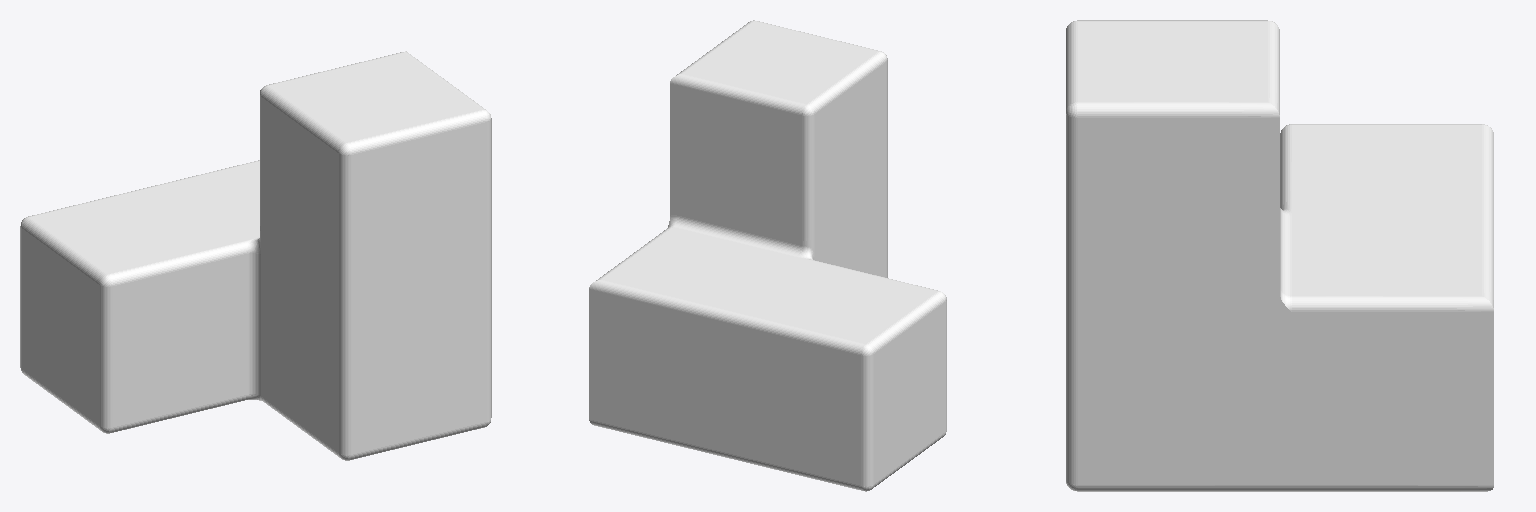
URDF robot description (cube6):
<robot name="cube6">
	<link name="baseLink">
    	<contact>
      		<lateral_friction value="0.5" />
      		<rolling_friction value="0.0" />
      		<contact_cfm value="0.0" />
      		<contact_erp value="1.0" />
    	</contact>
		<visual>
			<origin rpy="0.0 0.0 0.0" xyz="-0.8751012590545183 0.07997135283127035 -0.13495747074160994" />
			<geometry>
				<mesh filename="cubes/cube6.obj" scale="0.01 0.01 0.01" />
			</geometry>
			<material name="texture">
				<color rgba="1.0 1.0 1.0 1.0" />
			</material>
		</visual>
		<collision>
			<origin rpy="0.0 0.0 0.0" xyz="-0.8751012590545183 0.07997135283127035 -0.13495747074160994" />
			<geometry>
				<mesh filename="cubes/cube6_vhacd.obj" scale="0.01 0.01 0.01" />
			</geometry>
		</collision>
		<inertial>
			<origin rpy="0 0 0" xyz="0 0 0" />
			<mass value="0.5" />
			<inertia ixx="0.01" ixy="0.0" ixz="0.0" iyy="0.01" iyz="0.0" izz="0.01" />
		</inertial>
	</link>
</robot>

--- What the picture shows (computed from the rendered views, not written in the file) ---
The picture shows the robot from 3 angles, left to right: view 1: azimuth 30°, elevation 25°; view 2: azimuth 150°, elevation 25°; view 3: azimuth 270°, elevation 25°; orthographic projection.
Robot: cube6 — 1 links, 0 joints (none); root link baseLink; default pose: every joint at zero.
Links seen in each view (by area): view 1: baseLink; view 2: baseLink; view 3: baseLink.
Link boxes in pixels (left/top/right/bottom): baseLink: left=20, top=51, right=491, bottom=460; baseLink: left=589, top=20, right=946, bottom=491; baseLink: left=1066, top=20, right=1493, bottom=491.
Bounding box of the posed robot: 0.36 × 0.36 × 0.36 m (x, y, z).
Meshes: 1 distinct files referenced, 1 mesh visuals loaded (1 OBJ).